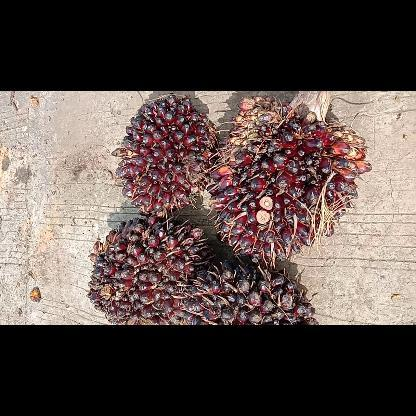TBS mentah: (206, 91, 372, 265), (82, 216, 218, 324), (110, 92, 220, 220), (182, 258, 322, 324)
